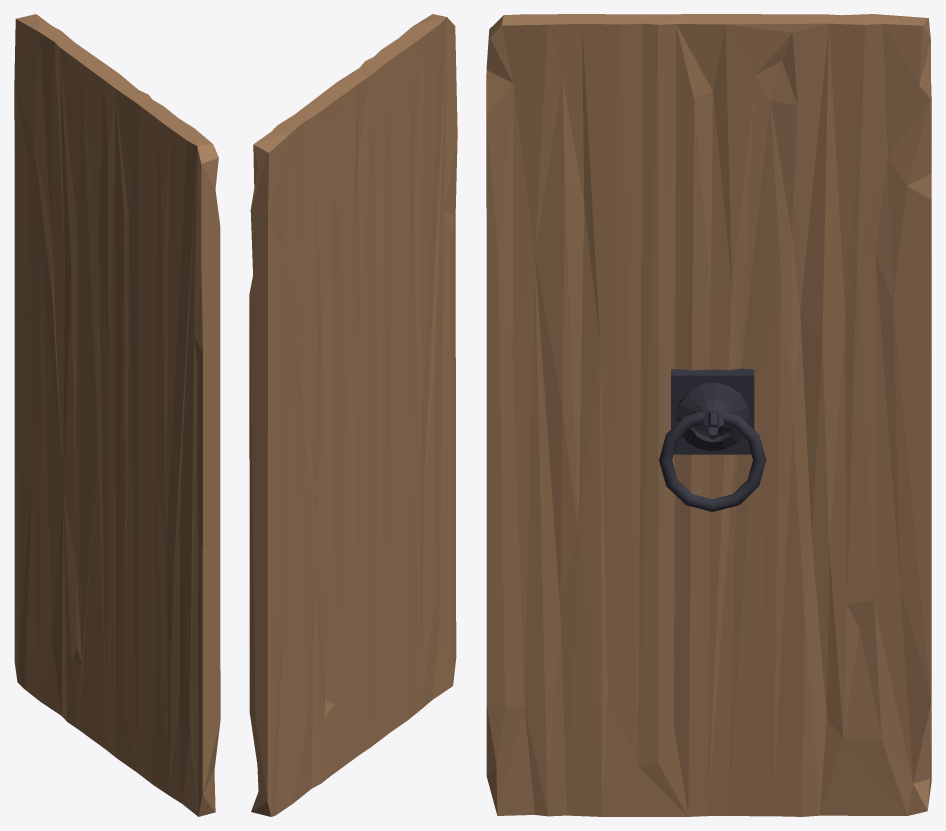
Rendered from SM_door_house.fbx.
The picture shows the model from 3 angles, left to right: view 1: azimuth 30°, elevation 25°; view 2: azimuth 150°, elevation 25°; view 3: azimuth 270°, elevation 25°; orthographic projection. The views are drawn at different scales.
Visible parts, largest first — view 1: door_house; view 2: door_house; view 3: door_house.
Boxes of the visible parts, x1,y1,x2,y2 form: door_house: (14, 14, 220, 816); door_house: (249, 14, 457, 816); door_house: (486, 14, 931, 816).
Bounding box in the file's own units: 16.9 × 200 × 102.
